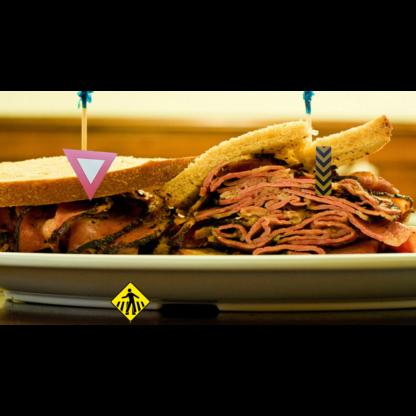A-32b: (110, 281, 151, 322)
O-MP: (315, 146, 331, 196)
R-2: (62, 148, 118, 201)
